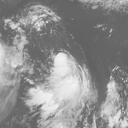cyclone: (34, 49, 95, 117)
